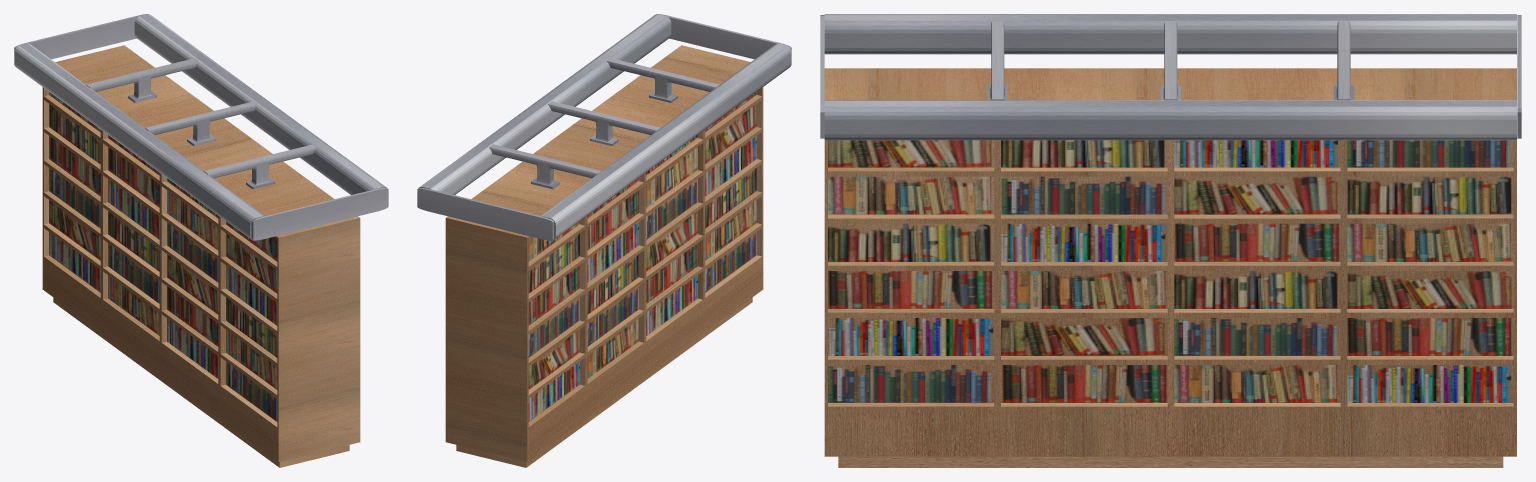
File: Shelf6x4Full.fbx
3 views of the same model, side by side, from view 1: azimuth 30°, elevation 25°; view 2: azimuth 150°, elevation 25°; view 3: azimuth 270°, elevation 25° (orthographic). The views are drawn at different scales.
Parts seen in each view (by area): view 1: Shelf6x4, Shelf6x4Lamp; view 2: Shelf6x4, Shelf6x4Lamp; view 3: Shelf6x4, Shelf6x4Lamp.
Boxes of the visible parts, bbox=[...] form: Shelf6x4: bbox=[42, 45, 360, 467]; Shelf6x4Lamp: bbox=[14, 14, 388, 240]; Shelf6x4: bbox=[445, 45, 763, 467]; Shelf6x4Lamp: bbox=[417, 14, 791, 240]; Shelf6x4: bbox=[824, 68, 1516, 467]; Shelf6x4Lamp: bbox=[820, 14, 1521, 140].
Bounding box in the file's own units: 272 × 488 × 810.
